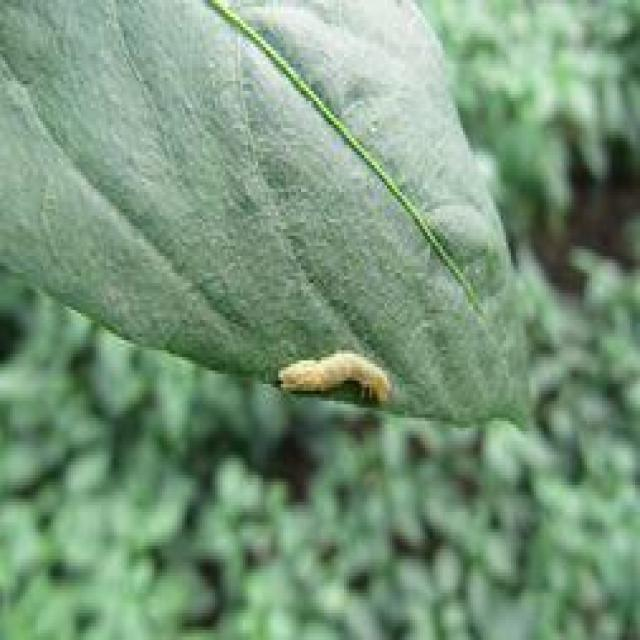BeetArmyWorm-Larva-: (272, 341, 406, 412)
